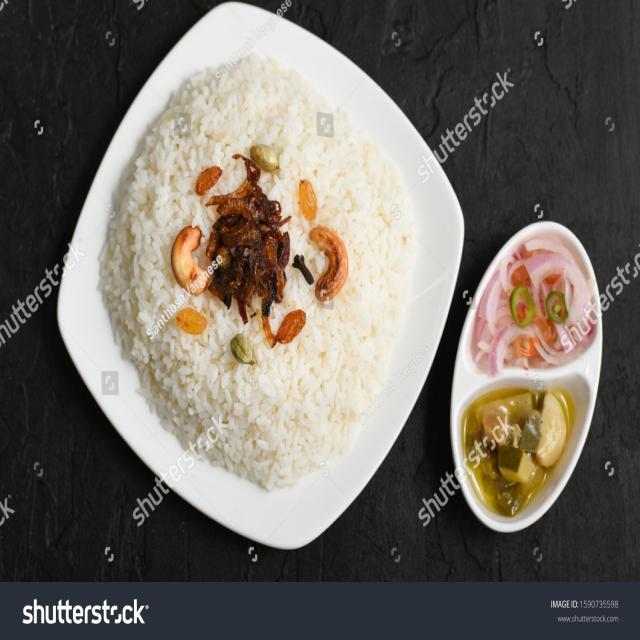nei satham: (149, 128, 359, 398)
